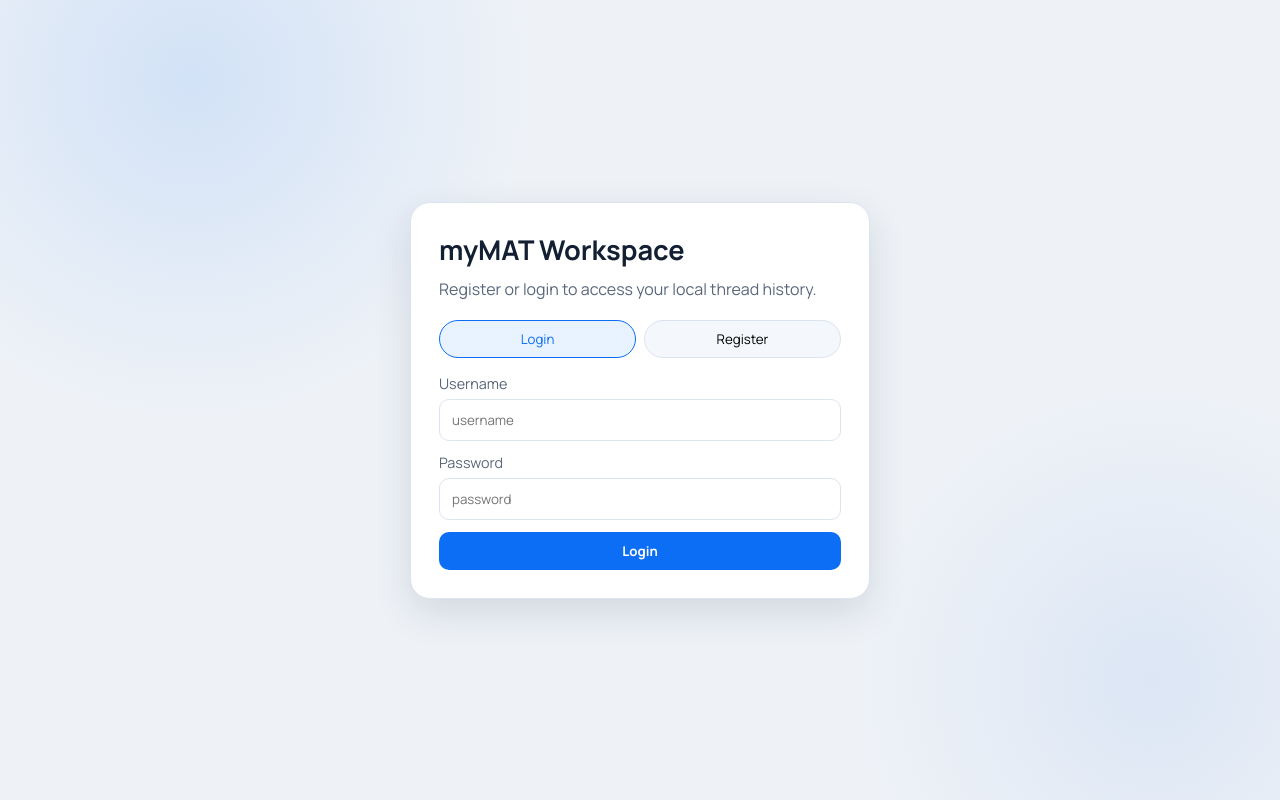
Test: AuthPanel › submits login mode and shows failure
Step 1. Type "bob" into the field labelled "Username" → [640, 420], box x1=439 y1=398 x2=841 y2=440
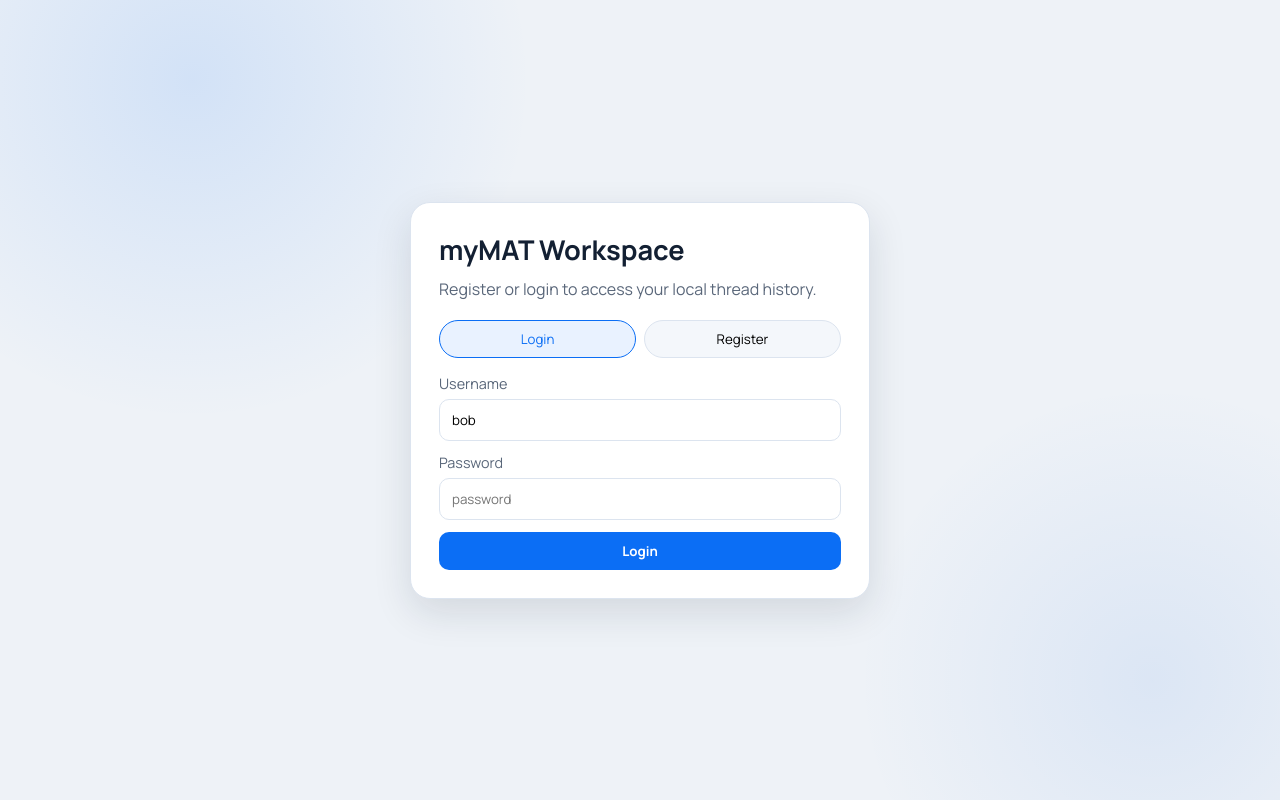
Step 2. Type "bad" into the password field labelled "Password" → [640, 498], box x1=439 y1=478 x2=841 y2=520
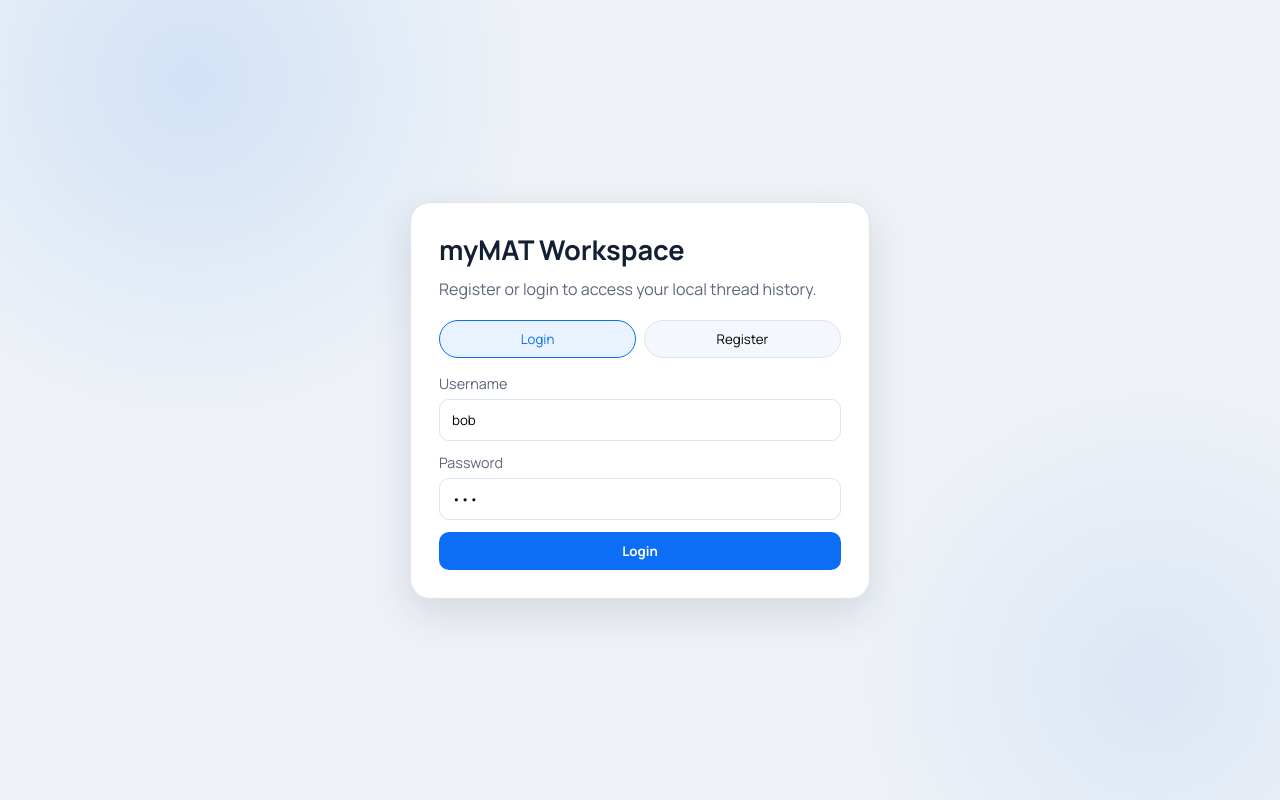
Step 3. Click the button "Login" → [640, 550], box x1=439 y1=532 x2=841 y2=570
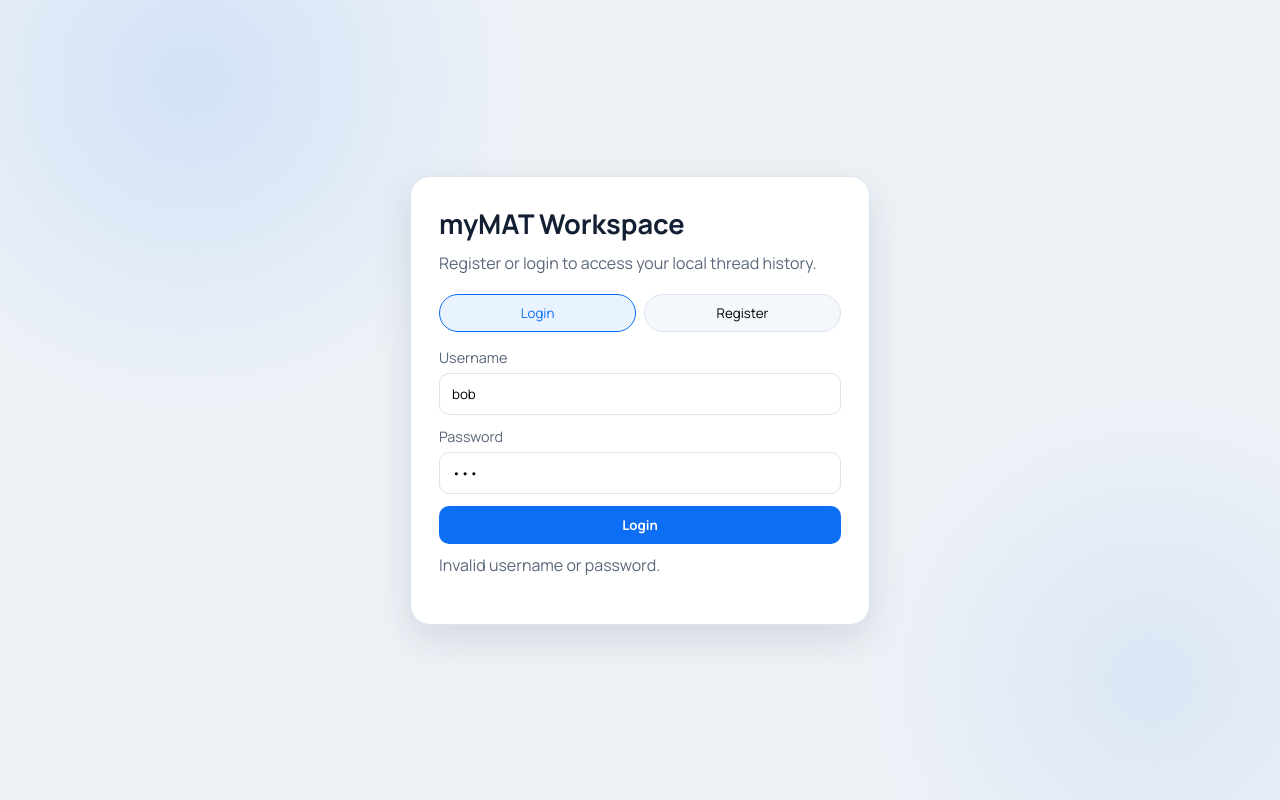
Check: the text "Invalid username or password." is shown, box x1=439 y1=554 x2=660 y2=576
